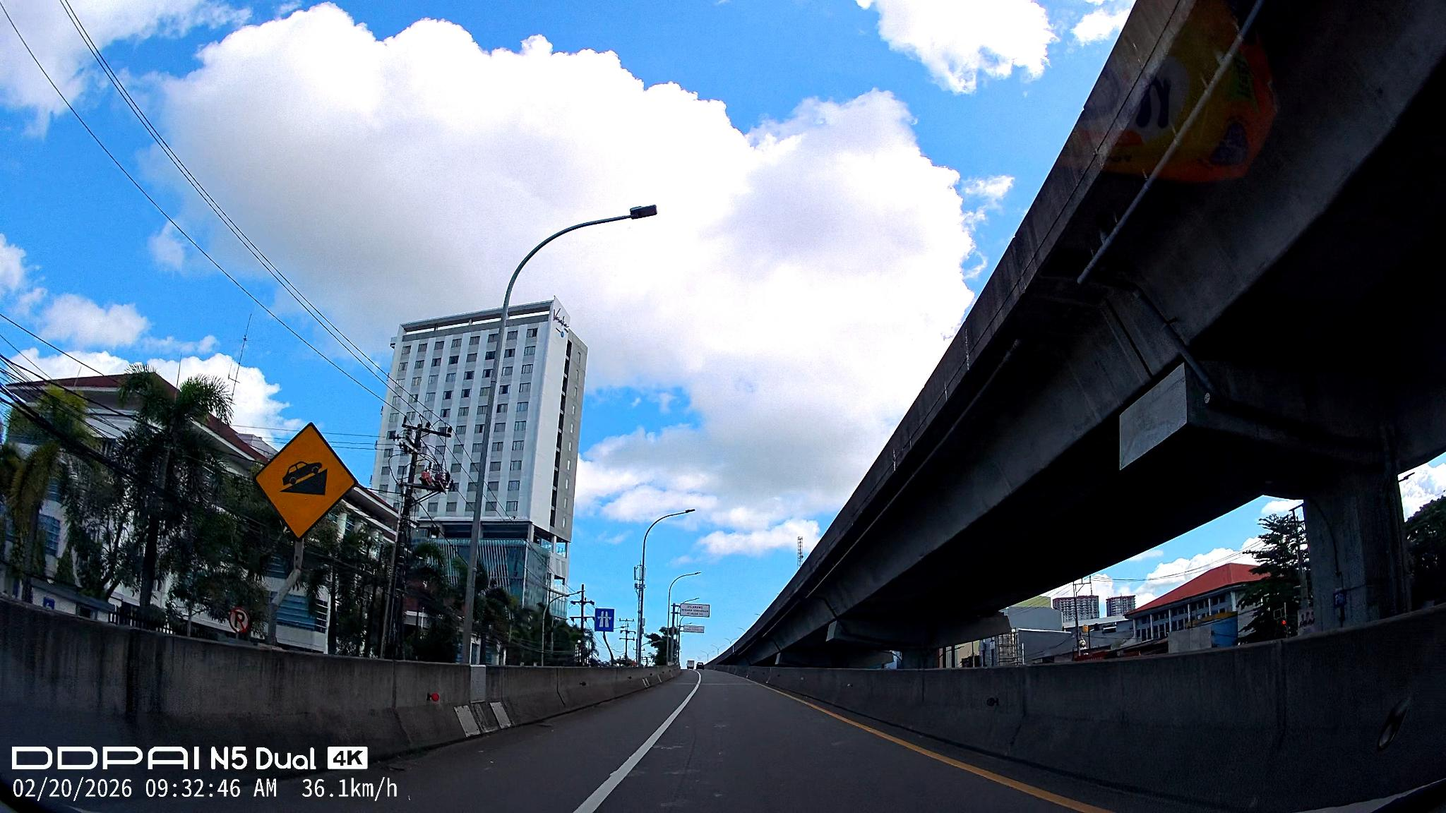rambu_teks: (680, 603, 710, 618)
